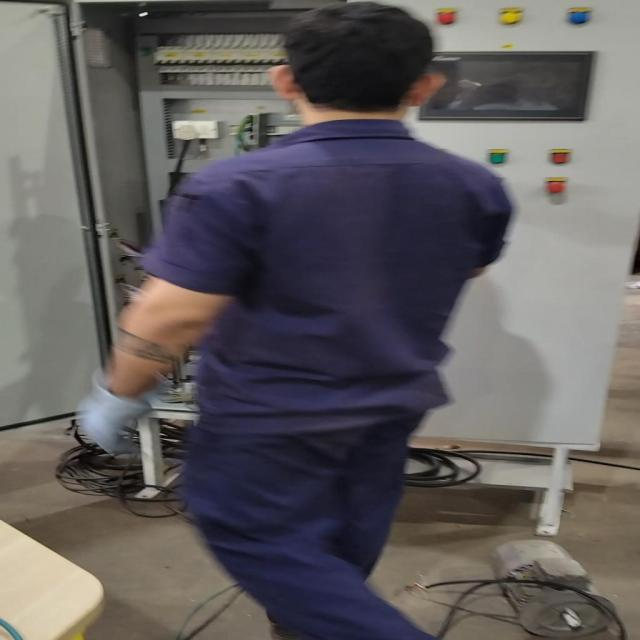Gloves-Detection: (74, 372, 141, 450)
